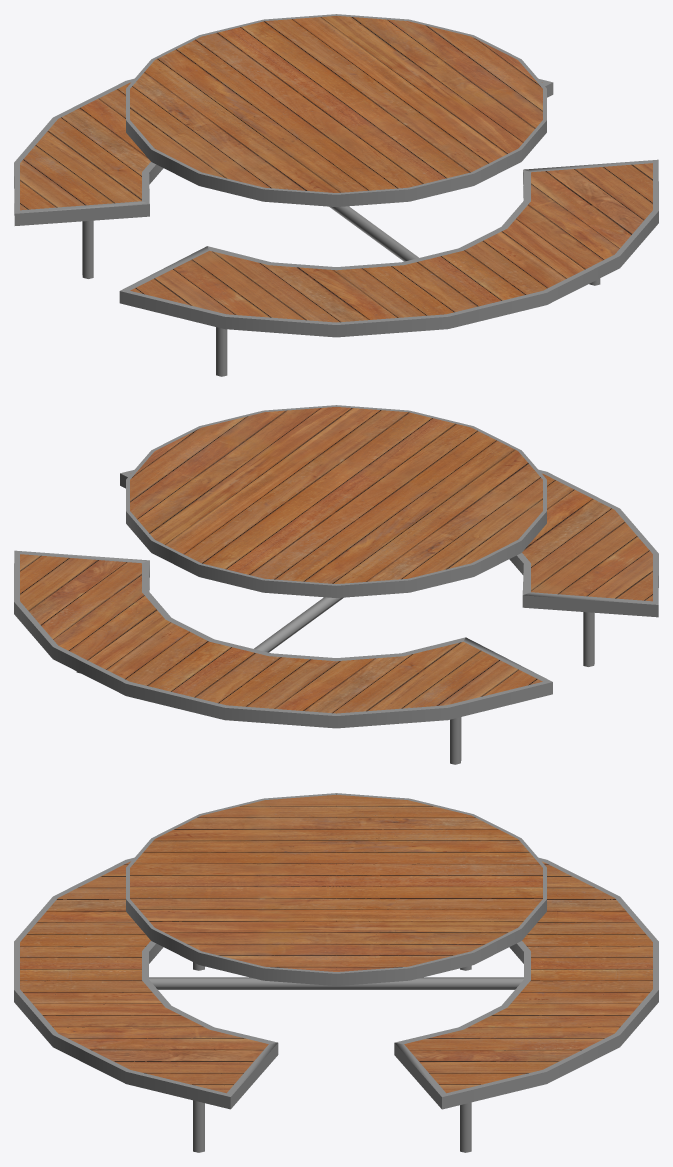
Rendered from ext_table_b_001.FBX.
3 views of the same model, one above another, from view 1: azimuth 30°, elevation 25°; view 2: azimuth 150°, elevation 25°; view 3: azimuth 270°, elevation 25° (orthographic).
Parts seen in each view (by area): view 1: ext_table_b_001; view 2: ext_table_b_001; view 3: ext_table_b_001.
Boxes of the visible parts, x1,y1,x2,y2 form: ext_table_b_001: (14, 14, 658, 376); ext_table_b_001: (14, 405, 658, 764); ext_table_b_001: (14, 793, 658, 1152).
Size of the model in its own units: 257 by 79.45 by 266.
